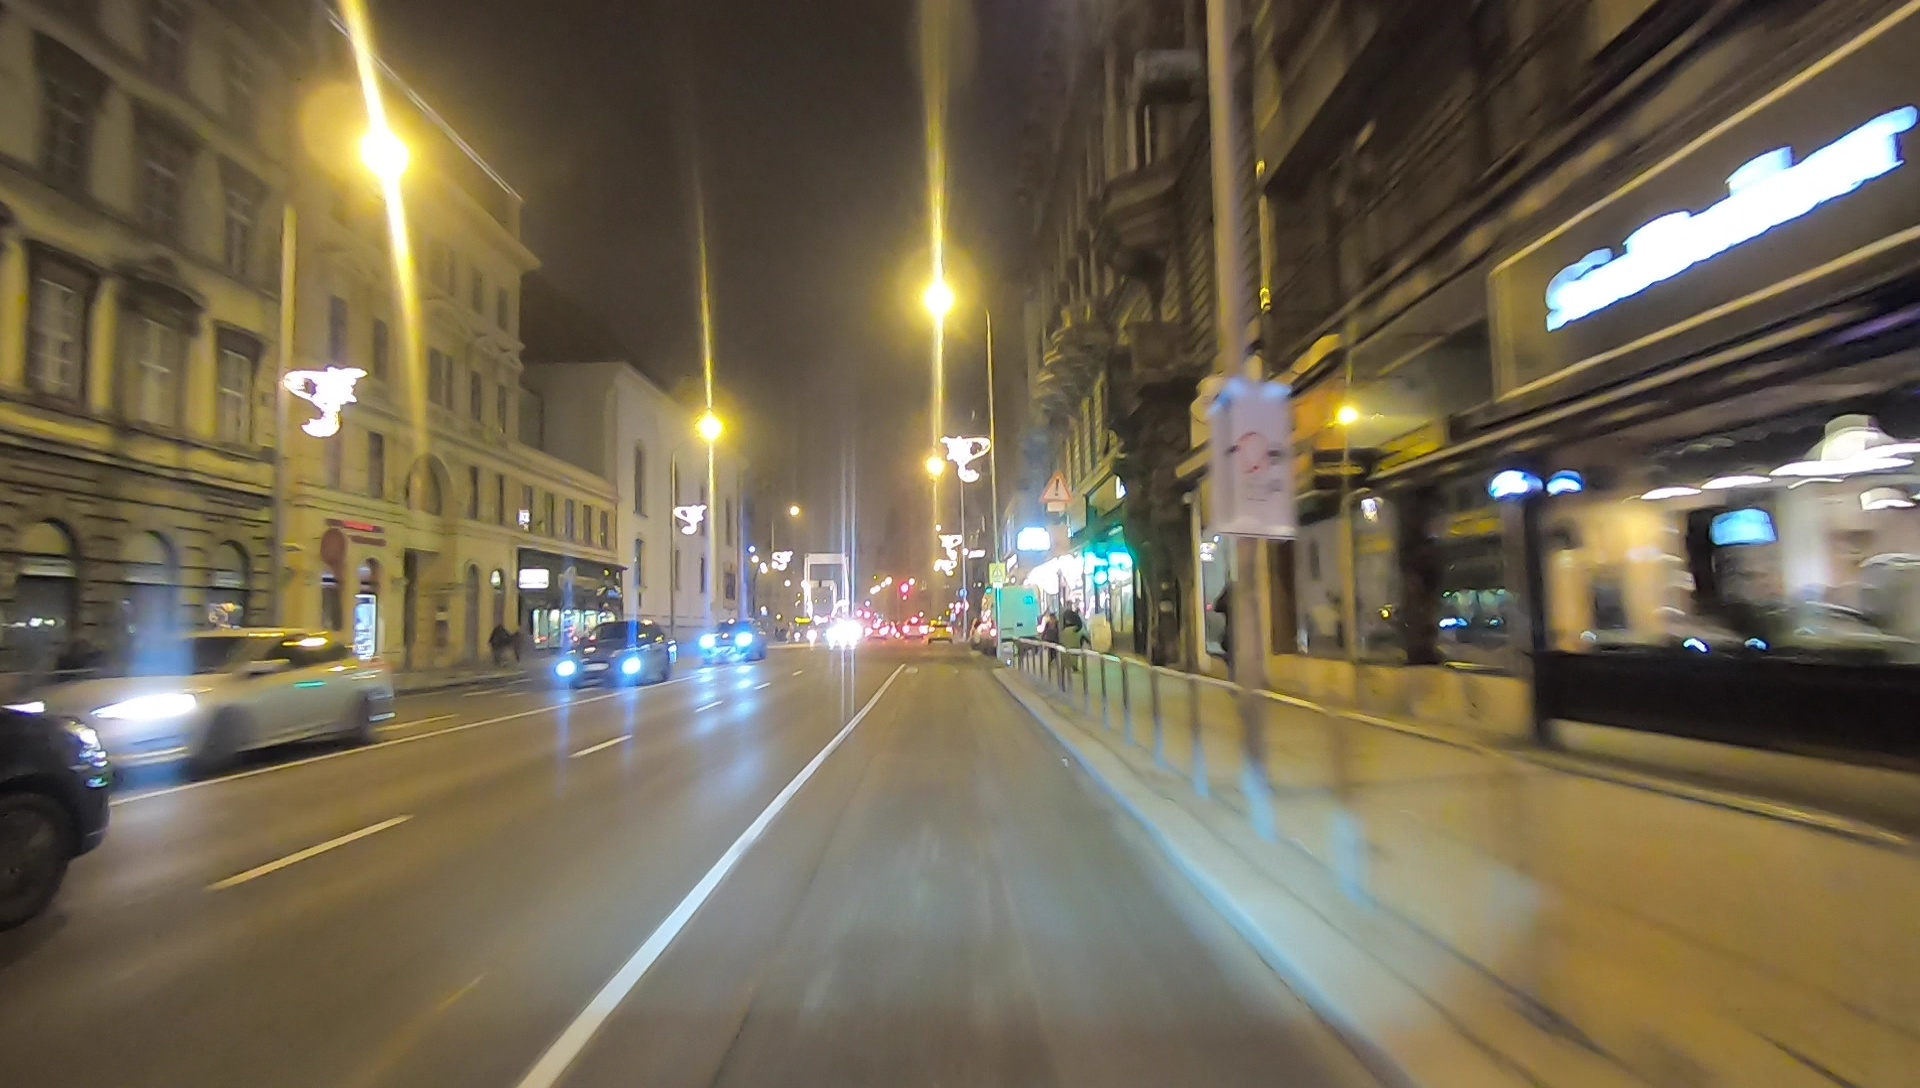person: (1211, 574, 1253, 696), (1040, 613, 1063, 674), (490, 619, 507, 671), (510, 628, 526, 664)
